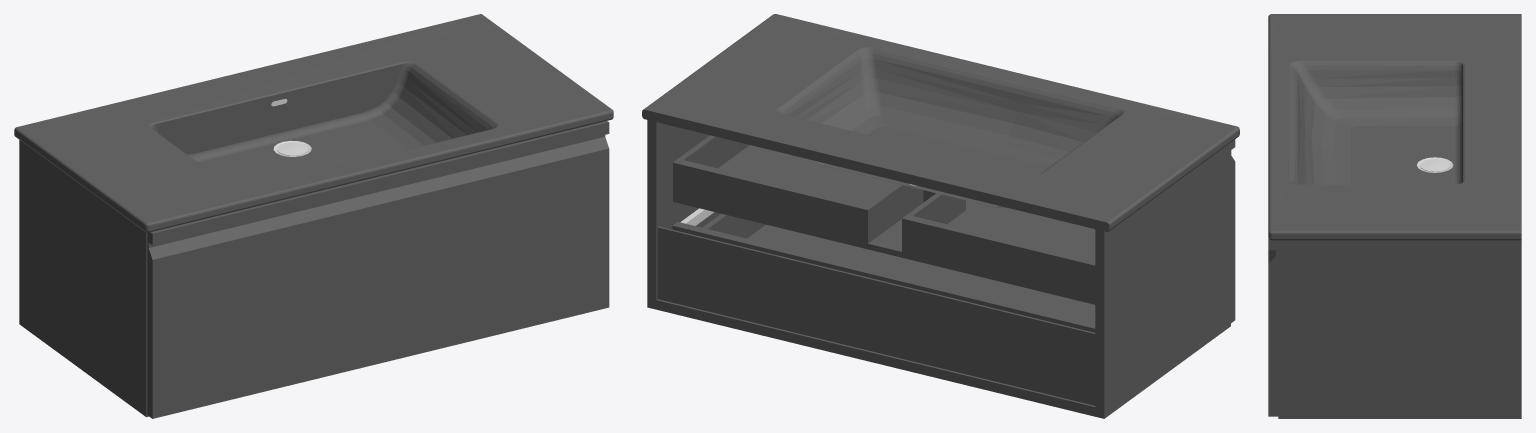
Rendered from AEC_46779.glb.
The picture shows the model from 3 angles, left to right: view 1: azimuth 30°, elevation 25°; view 2: azimuth 150°, elevation 25°; view 3: azimuth 270°, elevation 25°; orthographic projection. The views are drawn at different scales.
Parts seen in each view (by area): view 1: 0; view 2: 0; view 3: 0.
Boxes of the visible parts, left/top/right/bottom form: 0: left=14, top=14, right=613, bottom=418; 0: left=642, top=14, right=1239, bottom=418; 0: left=1268, top=14, right=1521, bottom=418.
Bounding box in the file's own units: 1.02 × 0.412 × 0.5.
1 material, 1 textured.
